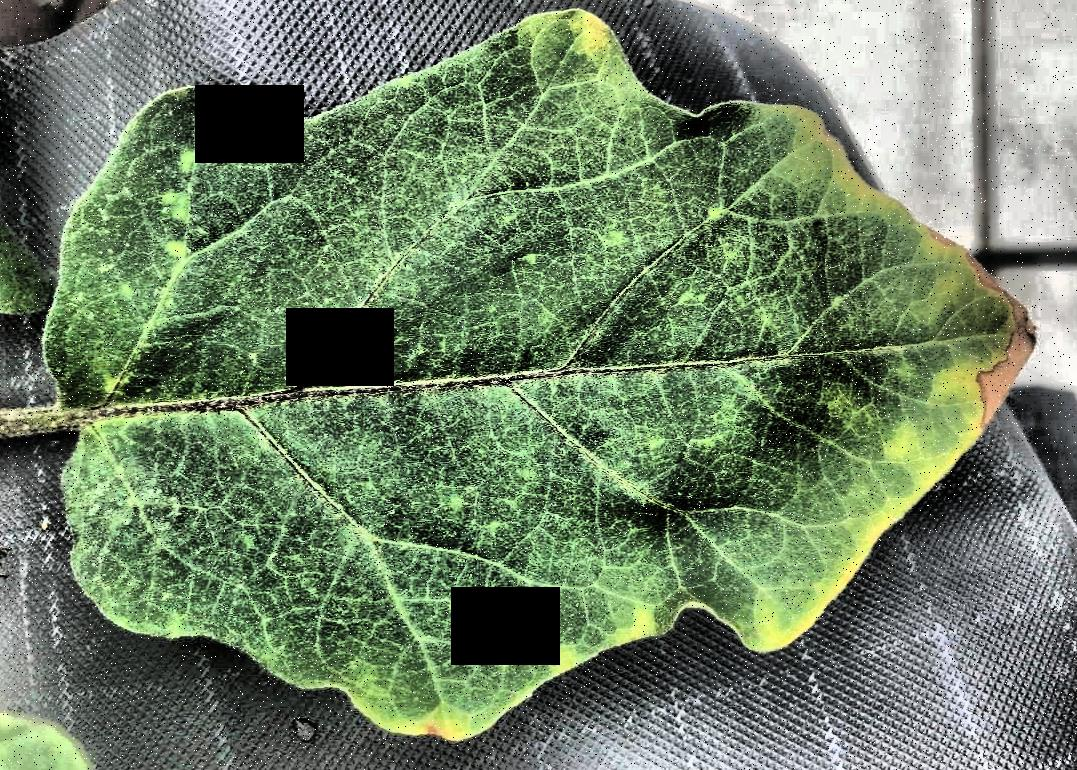Non-critical Stress: (1, 0, 1077, 770)
